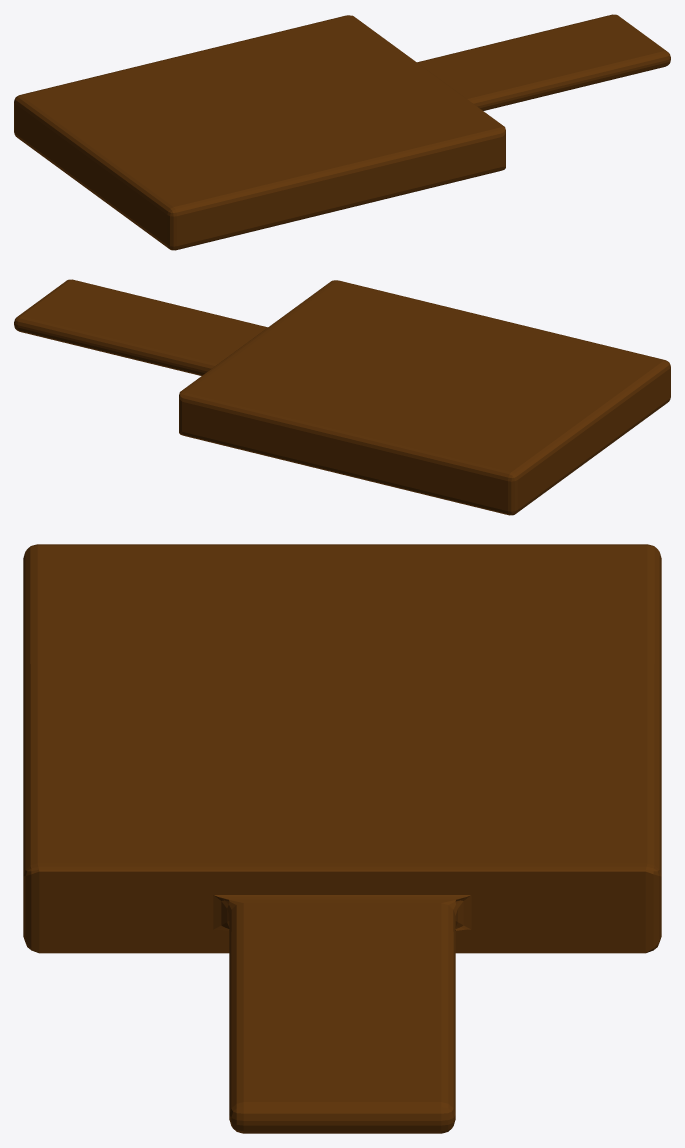
The model's file is tabua2TEXTURIZADA.fbx.
3 views of the same model, one above another, from view 1: azimuth 30°, elevation 25°; view 2: azimuth 150°, elevation 25°; view 3: azimuth 270°, elevation 25° (orthographic). The views are drawn at different scales.
Visible parts, largest first — view 1: Cube; view 2: Cube; view 3: Cube.
Boxes of the visible parts, box(x1,y1,x2,y2) form: Cube: box(14, 14, 670, 250); Cube: box(14, 279, 670, 515); Cube: box(23, 544, 661, 1133).
Bounding box in the file's own units: 401 × 29.66 × 200.
